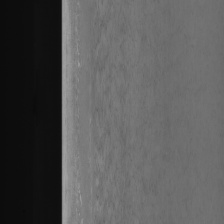silk_spot: (85, 3, 150, 220)
